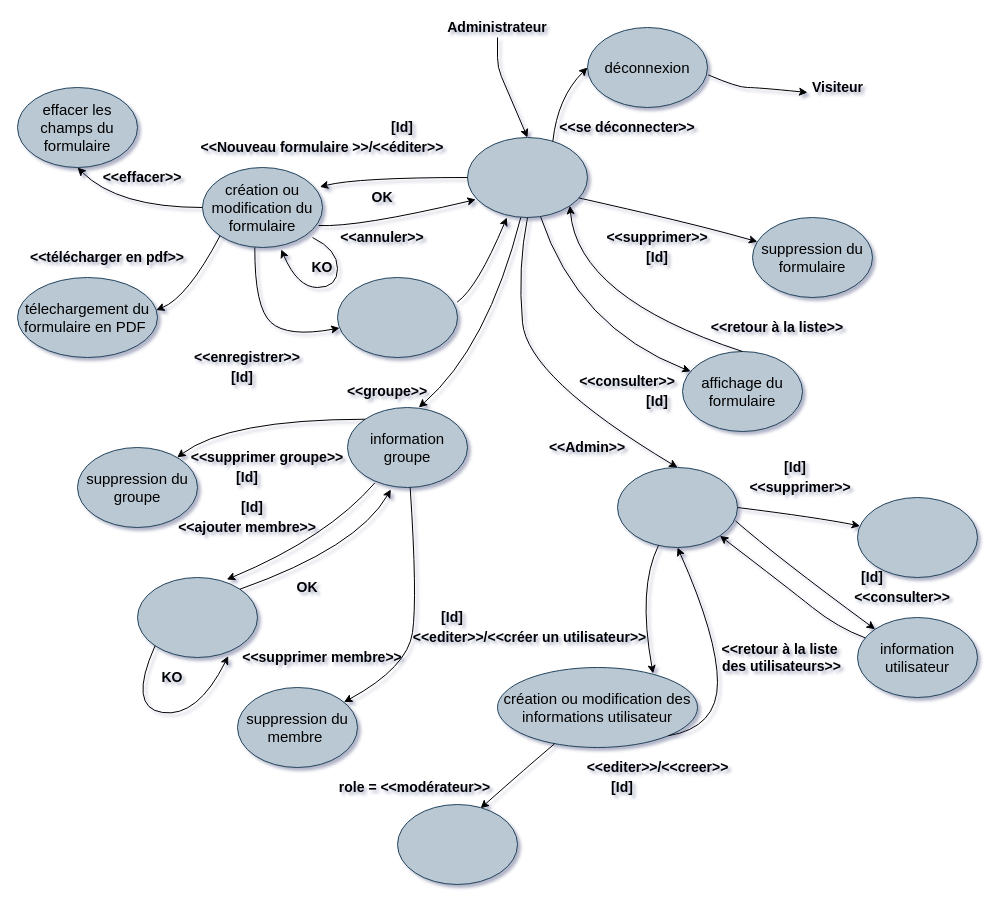
This 1001x908 diagram has some shape labels left out. Each missing label, with the box of its shape:
ajout d'un membre: (136, 576, 258, 658)
définir un modérateur: (396, 804, 518, 884)
enregistrement du formulaire: (336, 276, 458, 358)
listage formulaire: (466, 136, 588, 218)
listage utilisateur: (616, 466, 738, 548)
suppression d'un utilisateur: (856, 496, 978, 578)
